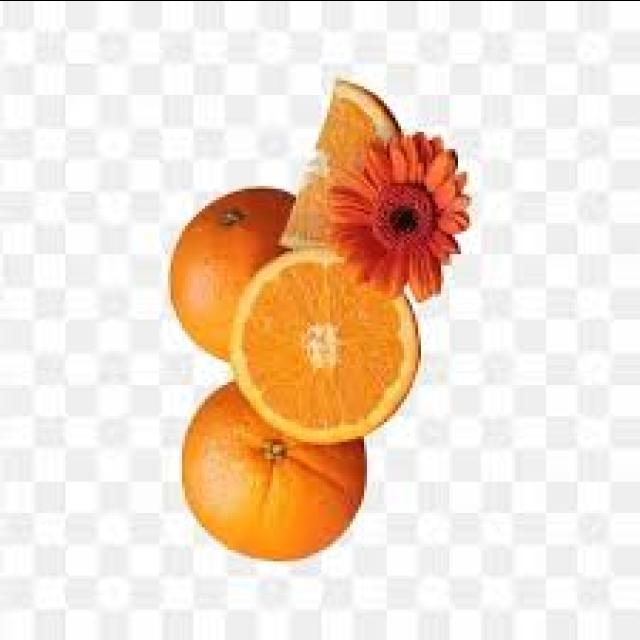orange: (170, 386, 362, 568)
